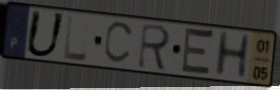C: (102, 20, 136, 66)
E: (179, 25, 217, 80)
H: (212, 30, 253, 79)
L: (63, 14, 89, 63)
R: (135, 22, 173, 73)
U: (23, 8, 68, 60)
